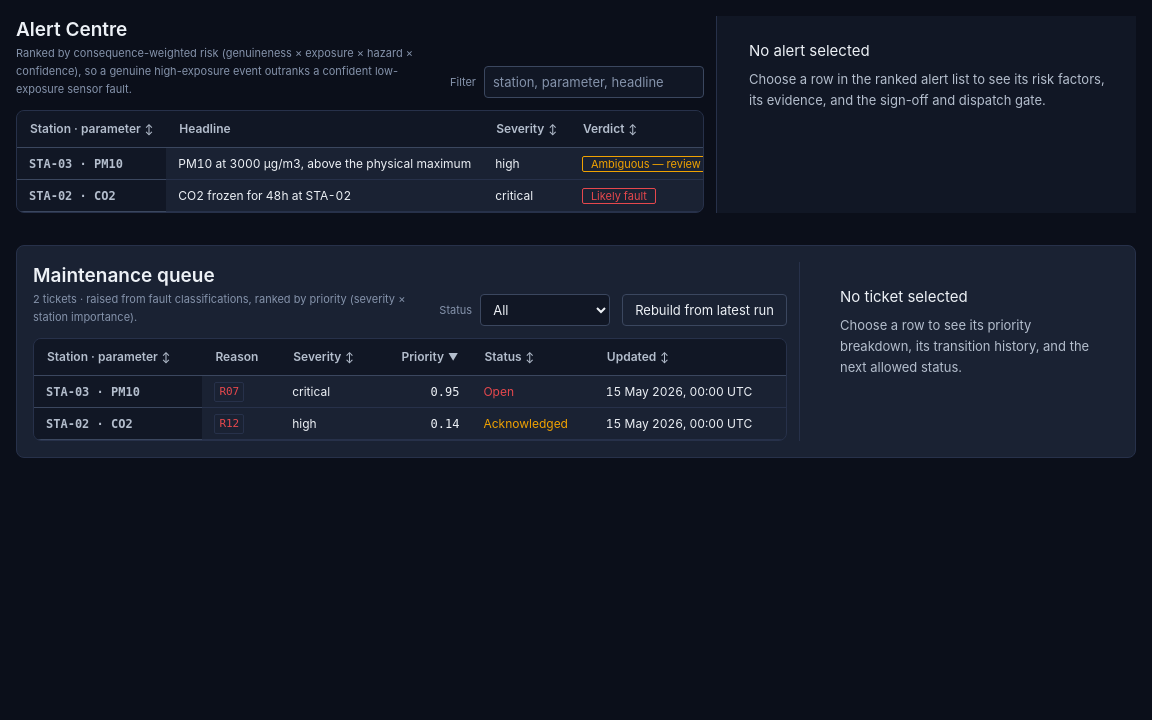
Test case: AlertCentre › only offers the maintenance ticket's next lifecycle status, forward-only
The image size is (1152, 720).
# Row 0 sorts by priority desc: STA-03 (open, priority 0.95) first.
Step 1. Click the 3rd row with test id "data-table-row" → (410, 392), box [34,376,786,408]
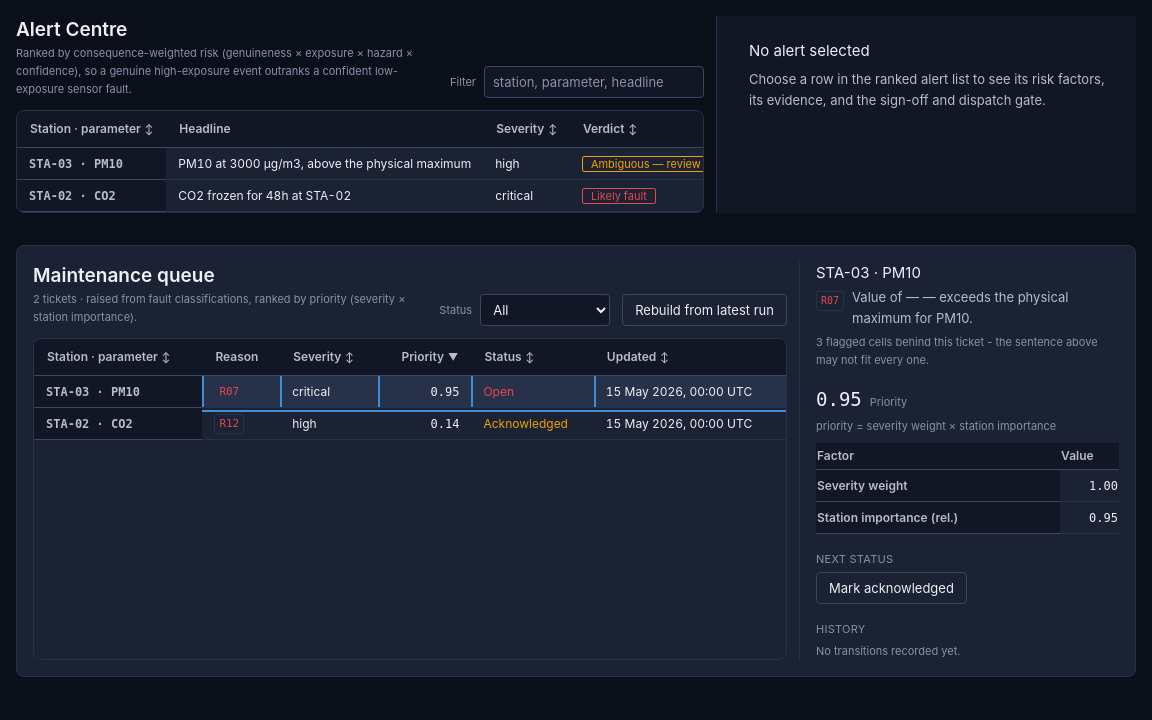
Expected: the button with test id "transition-acknowledged" is shown, [816,572,967,604]
